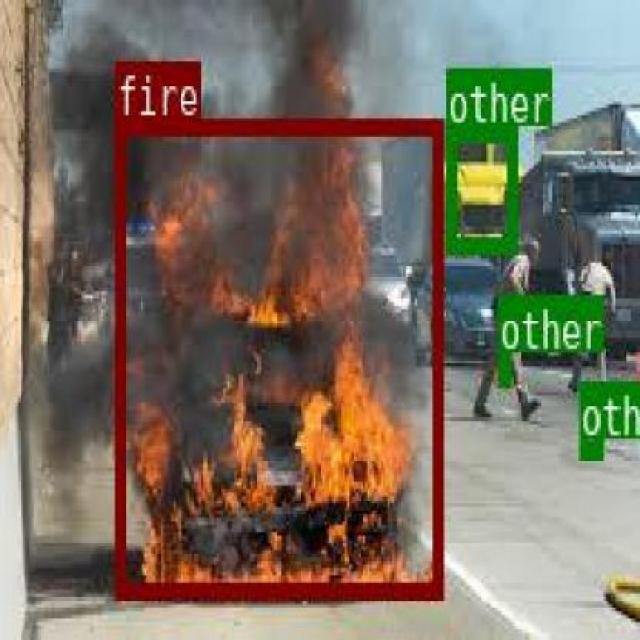Fire: (113, 117, 441, 597)
